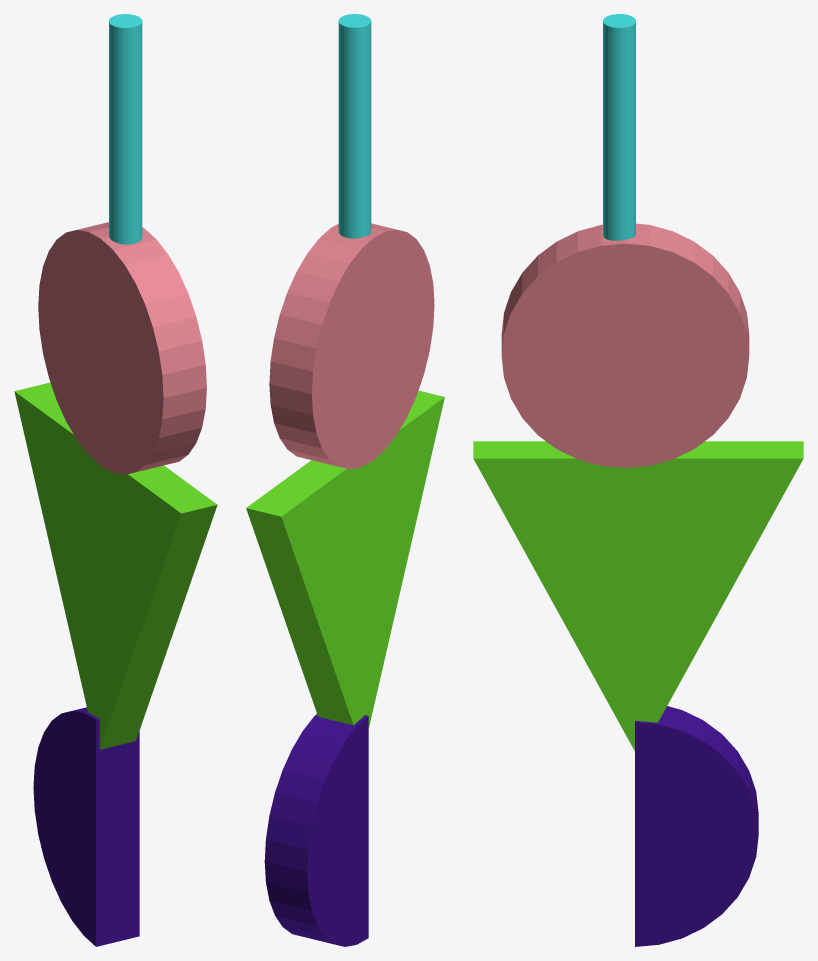
File: sutileza.fbx
3 views of the same model, side by side, from view 1: azimuth 30°, elevation 25°; view 2: azimuth 150°, elevation 25°; view 3: azimuth 270°, elevation 25° (orthographic). The views are drawn at different scales.
Parts seen in each view (by area): view 1: Cylinder; view 2: Cylinder; view 3: Cylinder.
Part boxes in pixels (x1,y1,x2,y2): Cylinder: [14, 14, 217, 946]; Cylinder: [246, 14, 444, 946]; Cylinder: [473, 14, 803, 946].
Size of the model in its own units: 60 by 1223 by 400.
